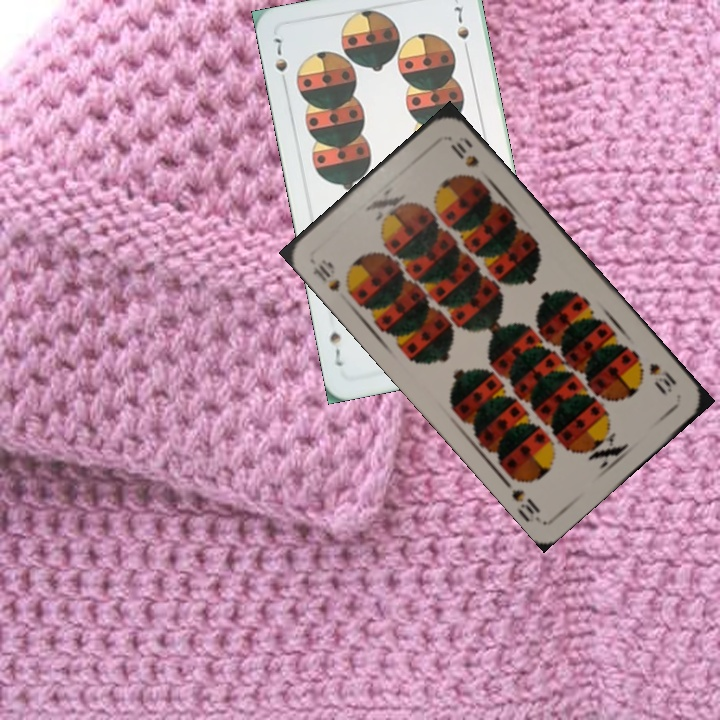S10: (308, 255, 356, 299), (645, 359, 680, 397)
S7: (271, 34, 290, 75)
